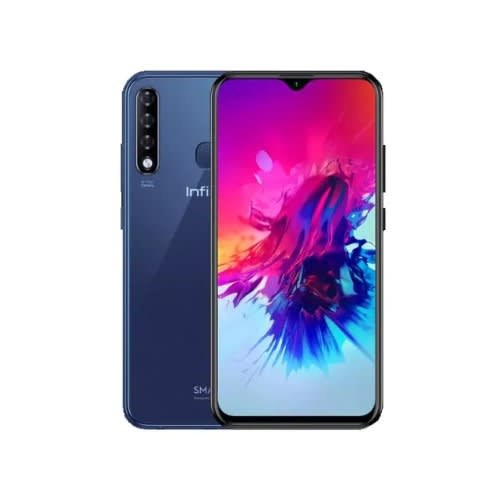phone: (206, 67, 389, 433)
